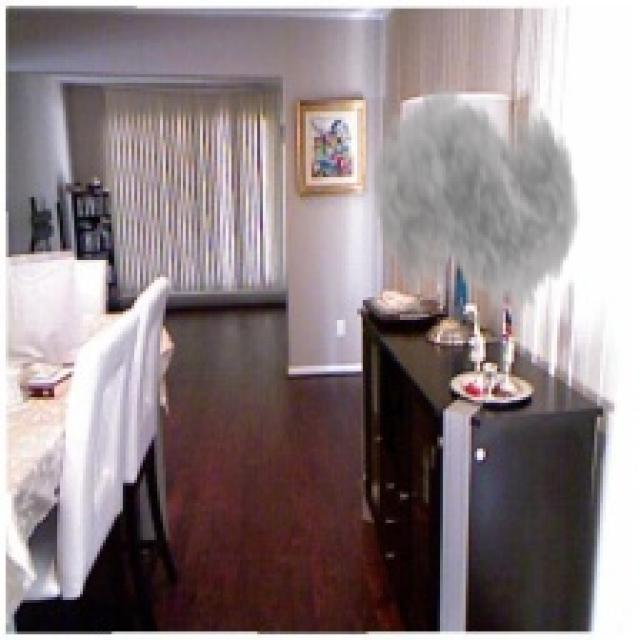Smoke: (371, 60, 580, 343)
